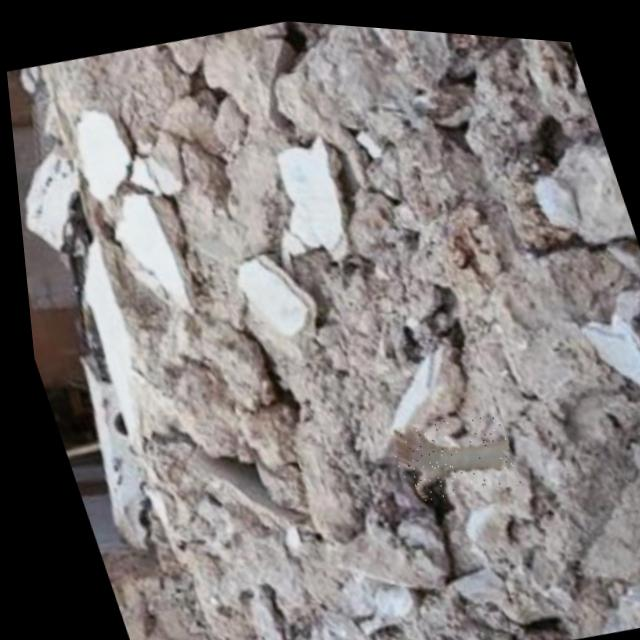Person in Rubble: (373, 395, 515, 503)
